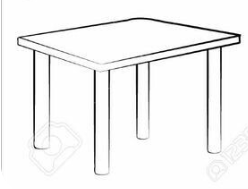table_legs: (206, 44, 223, 154), (33, 49, 51, 150), (94, 70, 110, 175), (136, 61, 150, 140)
table_top: (16, 17, 241, 73)
